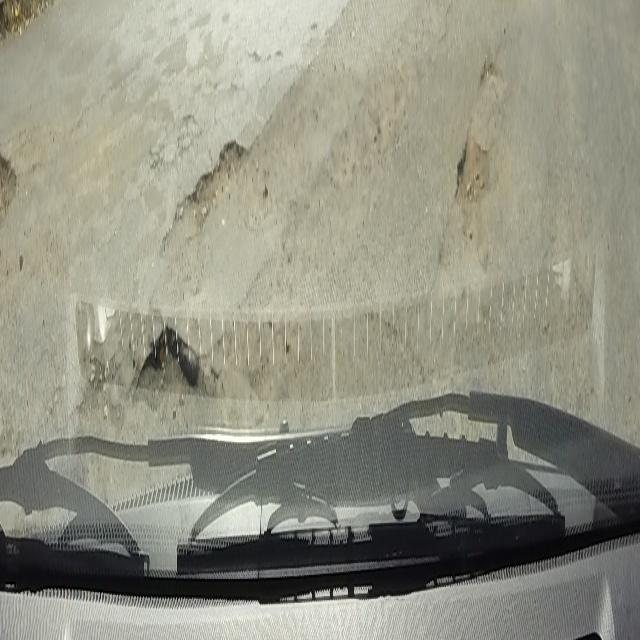pothole: (184, 124, 247, 238), (133, 316, 210, 401), (452, 116, 491, 212), (0, 152, 24, 224), (480, 52, 500, 94)
